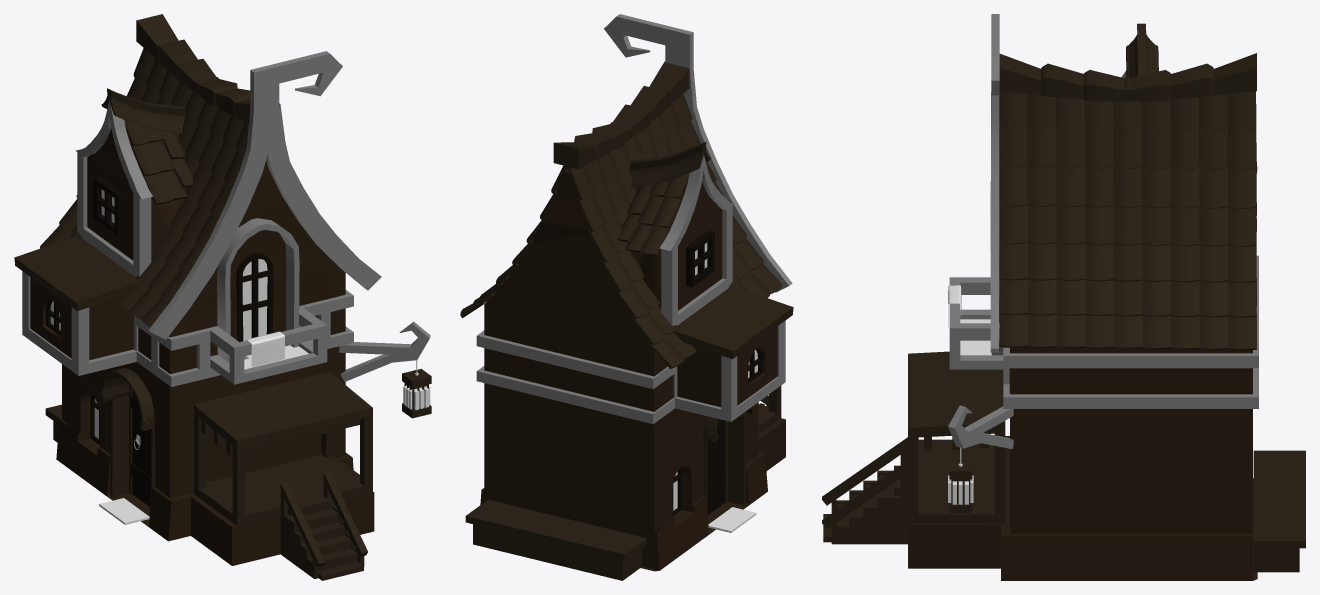
File: uploads_files_3708693_house3d.FBX
3 views of the same model, side by side, from view 1: azimuth 30°, elevation 25°; view 2: azimuth 150°, elevation 25°; view 3: azimuth 270°, elevation 25° (orthographic). The views are drawn at different scales.
Parts seen in each view (by area): view 1: base og, ROOF, 1stfloor frame, front frame, outer balcony roof, balcony floor, MINI ROOF, 1st floor balcony1 roof, DOORBorder001, blacony door frame, staircase, staircase side panels (+14 smaller); view 2: base og, ROOF, 1stfloor frame, Back deck, MINI ROOF, 1st floor balcony1 roof, front frame, DOORBorder001, DOOR, WindowsTOP, mat, balcony floor; view 3: ROOF, base og, 1stfloor frame, Back deck, outer balcony roof, balcony floor, staircase side panels001, front frame, HOOK, staircase side panels, MINI ROOF, lanturn (+4 smaller).
Boxes of the visible parts, x1=… form: base og: x1=30, y1=129, x2=374, y2=565; ROOF: x1=40, y1=14, x2=250, y2=326; 1stfloor frame: x1=22, y1=100, x2=353, y2=386; front frame: x1=148, y1=51, x2=381, y2=339; outer balcony roof: x1=194, y1=372, x2=372, y2=449; balcony floor: x1=194, y1=454, x2=372, y2=525; MINI ROOF: x1=101, y1=88, x2=193, y2=204; 1st floor balcony1 roof: x1=14, y1=236, x2=138, y2=311; DOORBorder001: x1=100, y1=368, x2=154, y2=507; blacony door frame: x1=217, y1=218, x2=299, y2=363; staircase: x1=288, y1=496, x2=363, y2=580; staircase side panels: x1=280, y1=481, x2=325, y2=578; base og: x1=480, y1=168, x2=785, y2=571; ROOF: x1=460, y1=61, x2=782, y2=368; 1stfloor frame: x1=476, y1=154, x2=785, y2=424; Back deck: x1=465, y1=499, x2=646, y2=580; MINI ROOF: x1=617, y1=142, x2=710, y2=256; 1st floor balcony1 roof: x1=673, y1=286, x2=793, y2=359; front frame: x1=604, y1=14, x2=792, y2=292; DOORBorder001: x1=703, y1=404, x2=755, y2=516; DOOR: x1=707, y1=419, x2=726, y2=515; WindowsTOP: x1=686, y1=230, x2=714, y2=287; mat: x1=708, y1=507, x2=756, y2=532; balcony floor: x1=758, y1=404, x2=781, y2=434; ROOF: x1=999, y1=53, x2=1256, y2=350; base og: x1=908, y1=127, x2=1257, y2=580; 1stfloor frame: x1=949, y1=70, x2=1258, y2=408; Back deck: x1=1253, y1=450, x2=1305, y2=572; outer balcony roof: x1=908, y1=351, x2=1005, y2=437; balcony floor: x1=908, y1=439, x2=1005, y2=523; staircase side panels001: x1=822, y1=461, x2=908, y2=544; front frame: x1=990, y1=14, x2=999, y2=352; HOOK: x1=948, y1=405, x2=1013, y2=449; staircase side panels: x1=822, y1=437, x2=907, y2=512; MINI ROOF: x1=1125, y1=23, x2=1158, y2=77; lanturn: x1=949, y1=460, x2=972, y2=513.
Size of what is drawn, in the model's own units: 221 by 317 by 273.
